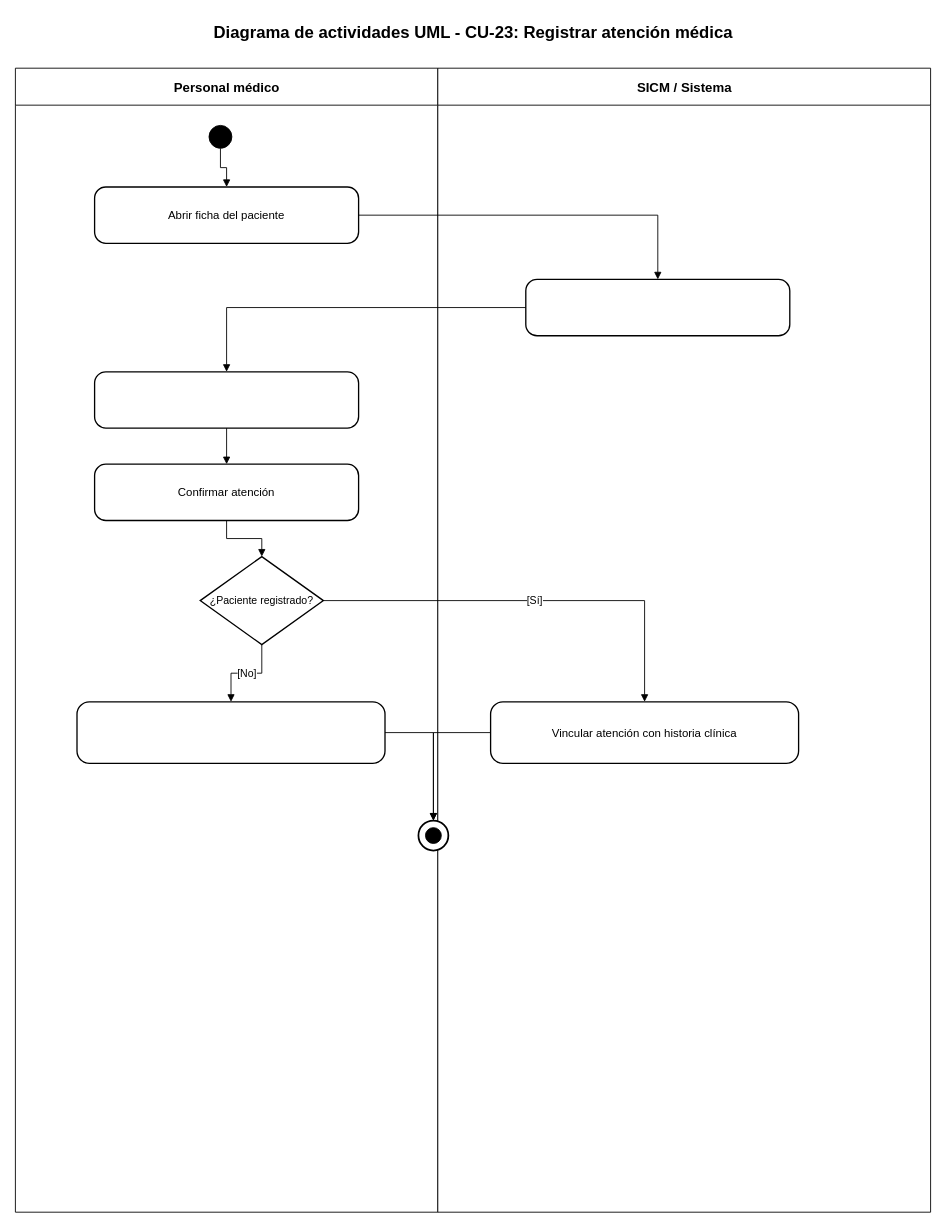
Some shapes in this 946 by 1228 pixel diagram are drawn without their labels. The centre of each missing label's shape, as x and y in pixels:
Registrar motivo y hallazgos: the point at 226,399
Sugerir registrar al paciente: the point at 230,732
Verificar cita o identificar urgencia: the point at 657,307
